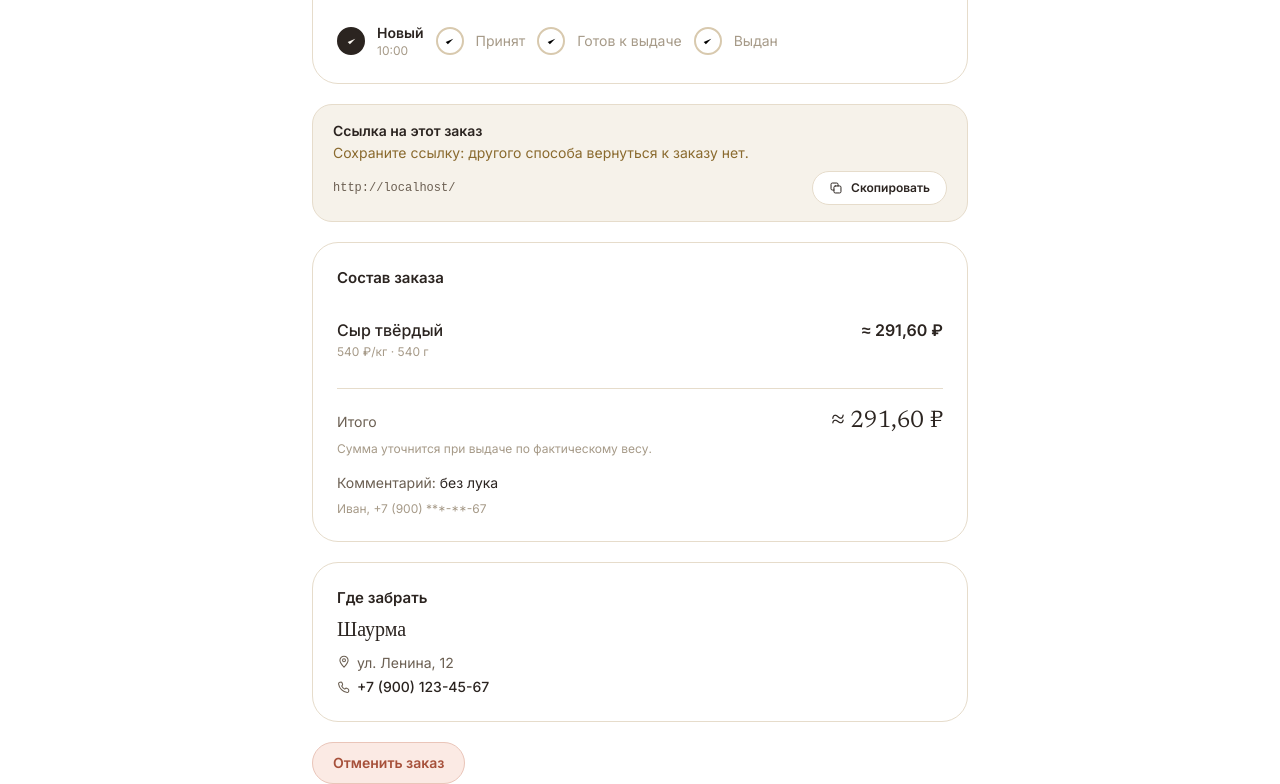
Test: OrderPage › cancels after confirmation
(page scrolled)
Click the button "Отменить заказ".
click(389, 763)  # box [312,742,466,783]
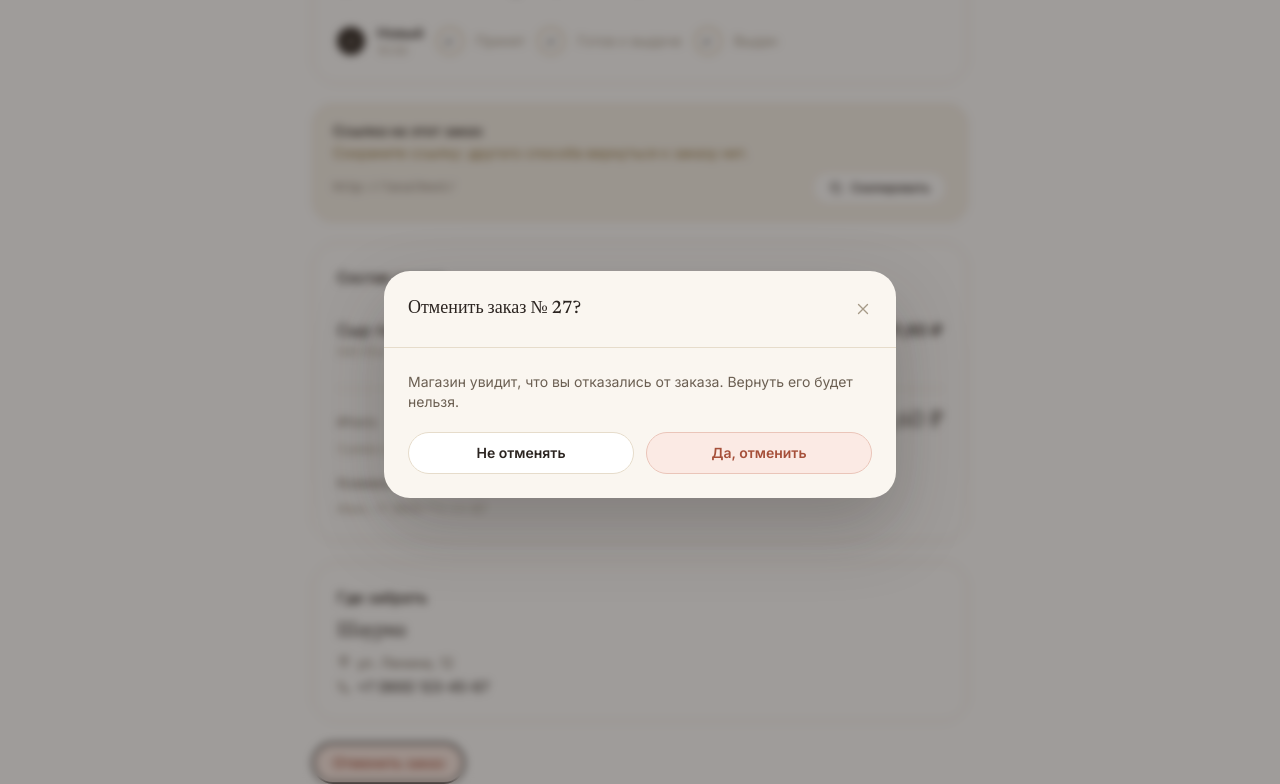
Now the dialog "Отменить заказ № 27?" is shown, box [384,270,896,498]
Click the button "Да, отменить".
click(759, 452)  # box [646,432,872,474]
(page scrolled)
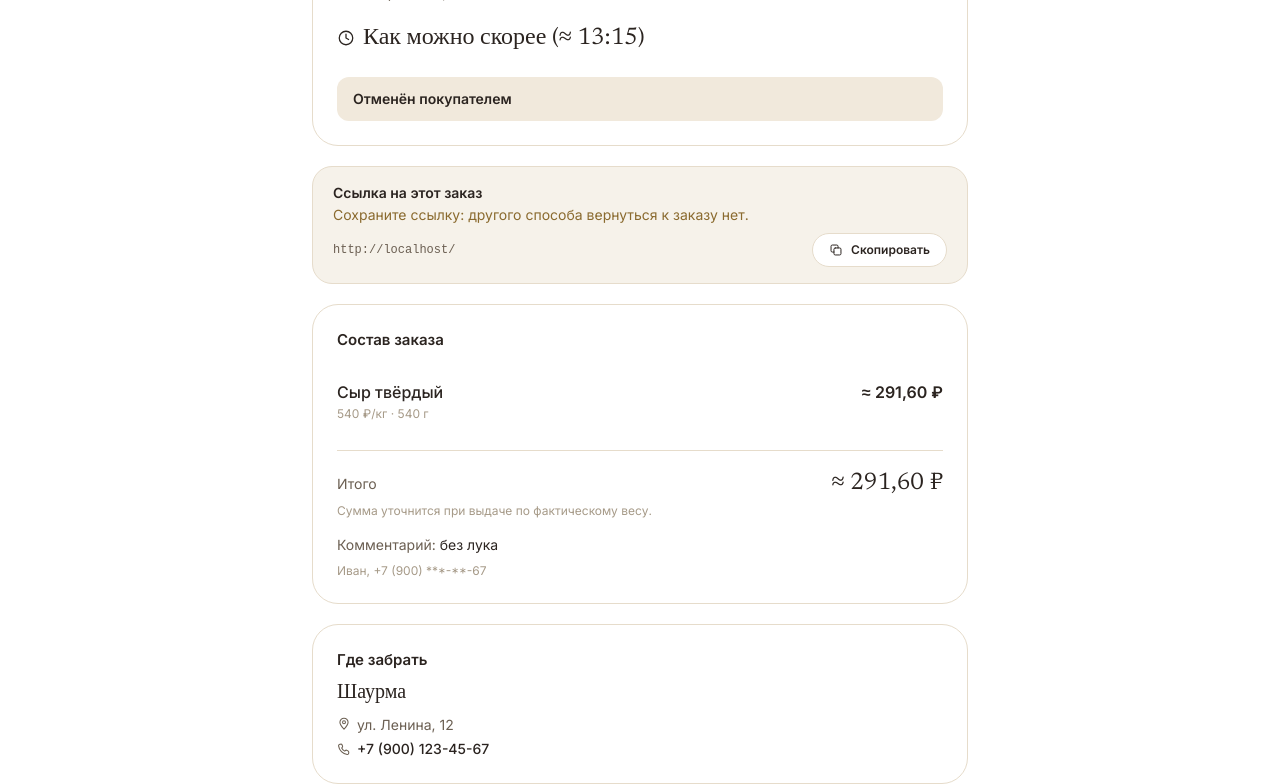
Now the text "Отменён покупателем" is shown, box [353,90,512,107]
